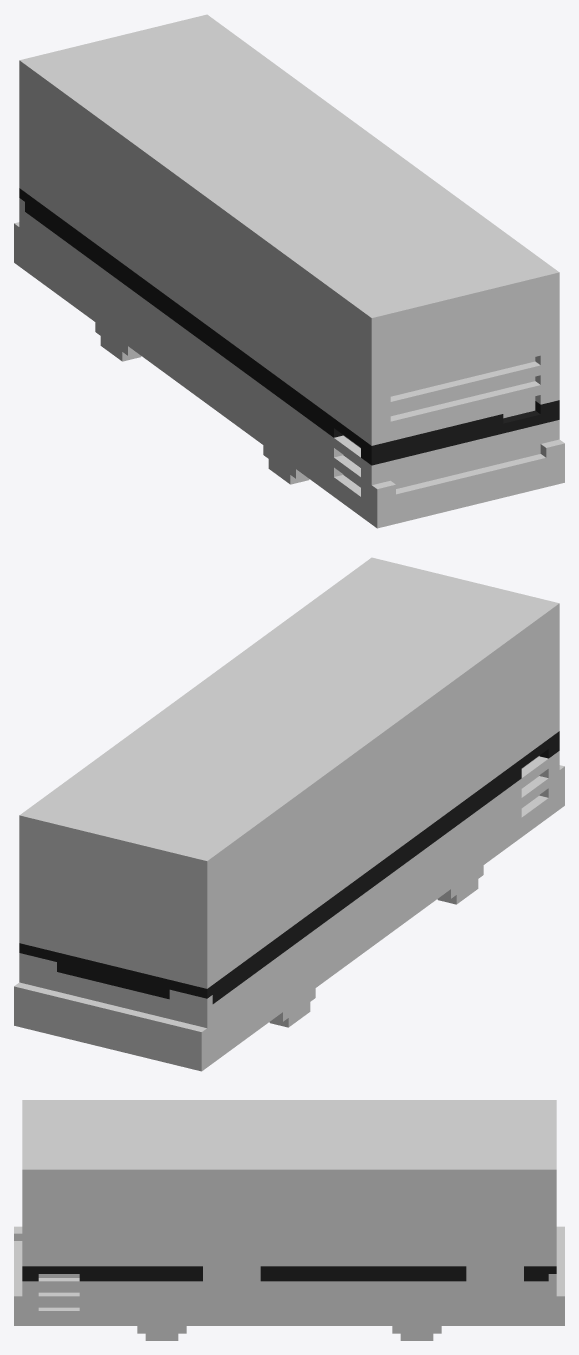
The model's file is veh_bus.obj.
3 views of the same model, one above another, from view 1: azimuth 30°, elevation 25°; view 2: azimuth 150°, elevation 25°; view 3: azimuth 270°, elevation 25° (orthographic). The views are drawn at different scales.
Size of the model in its own units: 20 by 23 by 67.
